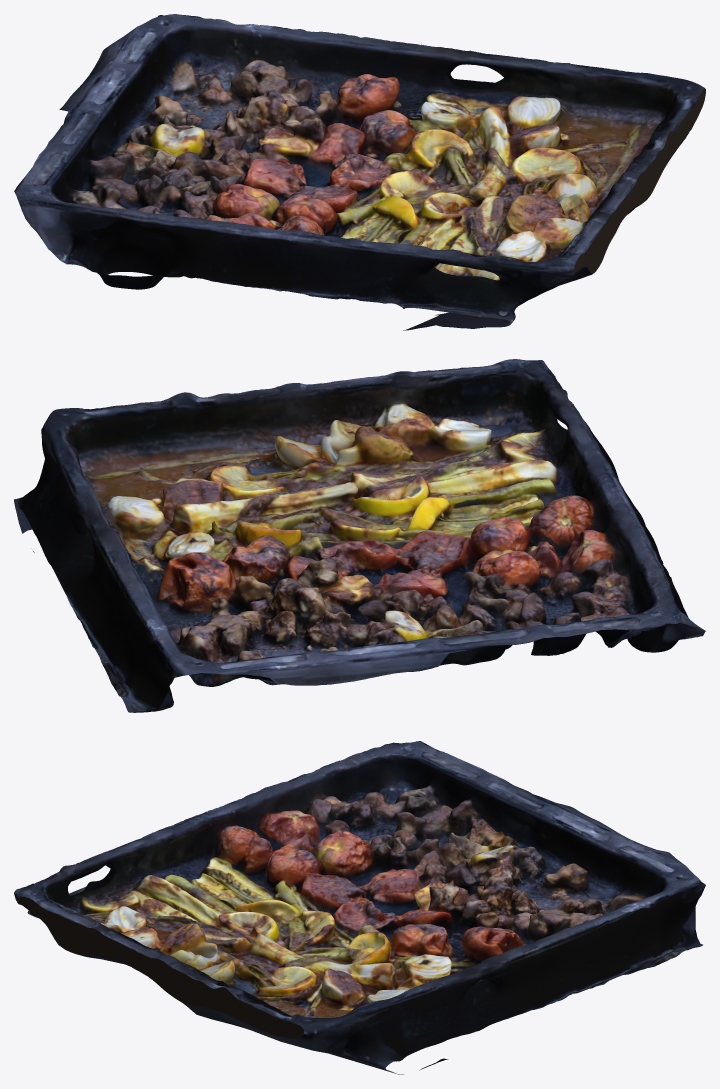
File: burger.glb
3 views of the same model, one above another, from view 1: azimuth 30°, elevation 25°; view 2: azimuth 150°, elevation 25°; view 3: azimuth 270°, elevation 25° (orthographic). The views are drawn at different scales.
Visible parts, largest first — view 1: 3DModel; view 2: 3DModel; view 3: 3DModel.
Part boxes in pixels (bbox=[...]): 3DModel: bbox=[14, 14, 705, 330]; 3DModel: bbox=[14, 359, 705, 712]; 3DModel: bbox=[14, 741, 705, 1074].
Bounding box in the file's own units: 1.09 × 0.1181 × 1.11.
Materials: 1 (1 with a texture image).
